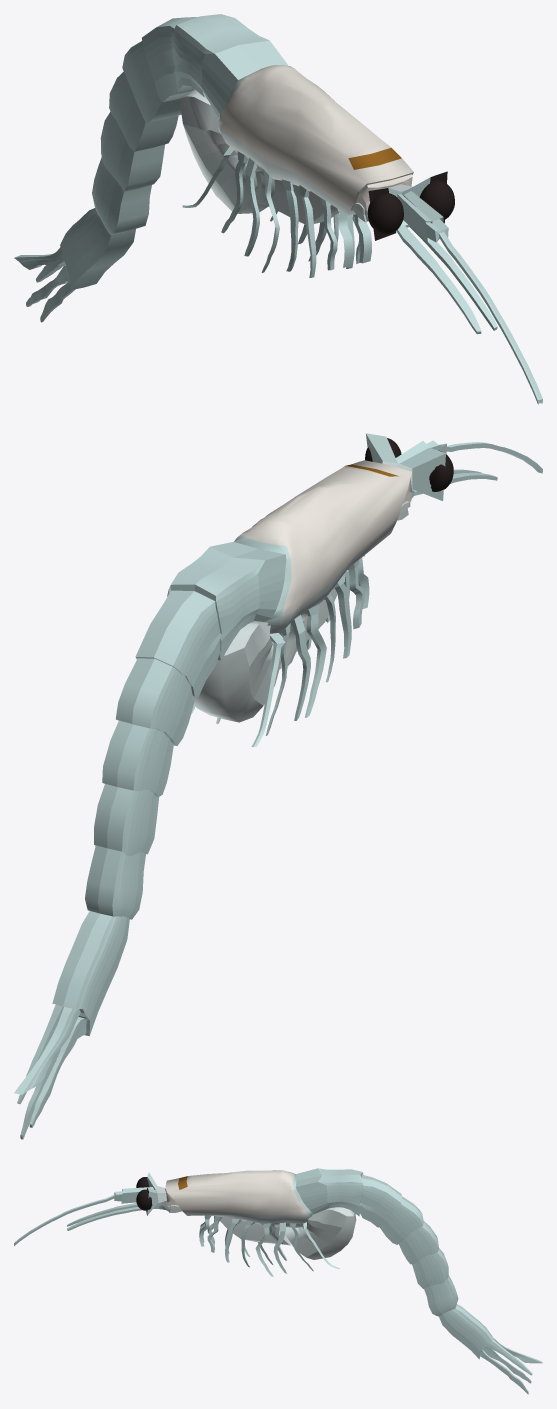
The model's file is mysid_shrimp.fbx.
3 views of the same model, one above another, from view 1: azimuth 30°, elevation 25°; view 2: azimuth 150°, elevation 25°; view 3: azimuth 270°, elevation 25° (orthographic). The views are drawn at different scales.
Parts seen in each view (by area): view 1: pSphere3; view 2: pSphere3; view 3: pSphere3.
Boxes of the visible parts, box(x1,y1,x2,y2) form: pSphere3: box(14, 14, 542, 404); pSphere3: box(14, 433, 542, 1139); pSphere3: box(14, 1168, 542, 1394).
Bounding box in the file's own units: 0.8578 × 4.3 × 9.32.
